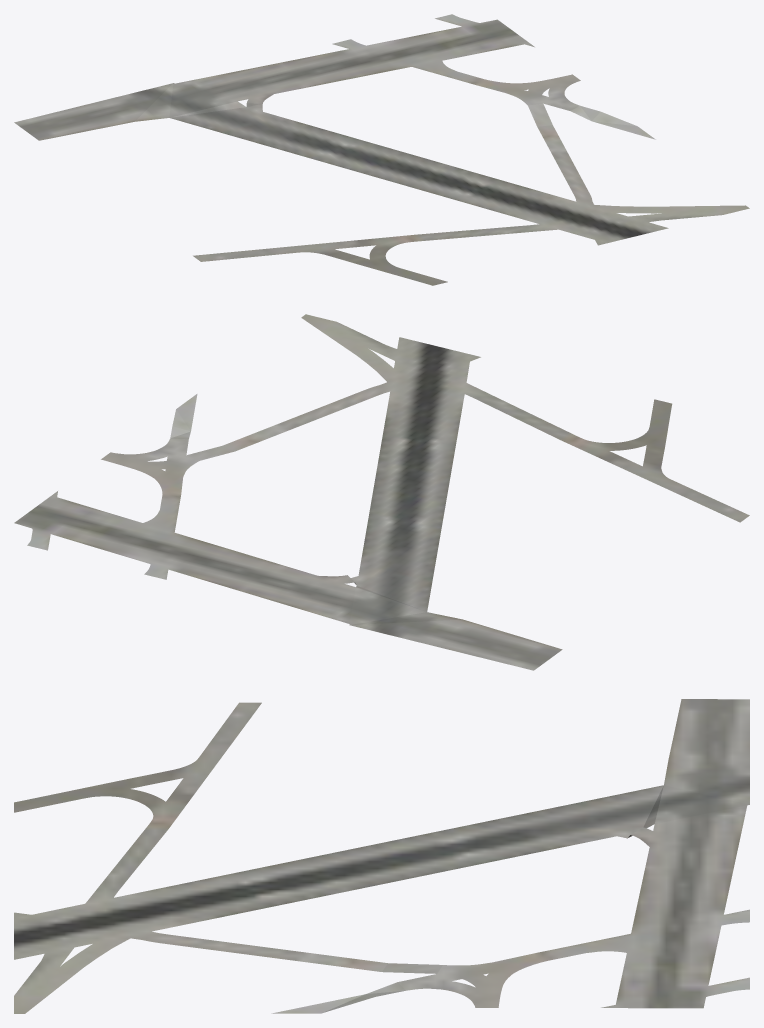
File: LSZH_0_-1.glb
3 renders of one model, top to bottom at view 1: azimuth 30°, elevation 25°; view 2: azimuth 150°, elevation 25°; view 3: azimuth 270°, elevation 25°, orthographic. The views are drawn at different scales.
Visible parts, largest first — view 1: pavement_LSZH_pavement_5367_2513; view 2: pavement_LSZH_pavement_5367_2513; view 3: pavement_LSZH_pavement_5367_2513.
Boxes of the visible parts, left/top/right/bottom form: pavement_LSZH_pavement_5367_2513: left=14, top=14, right=749, bottom=285; pavement_LSZH_pavement_5367_2513: left=14, top=314, right=749, bottom=670; pavement_LSZH_pavement_5367_2513: left=14, top=699, right=749, bottom=1013.
Bounding box in the file's own units: 500 × 4.28 × 500.
1 material, 1 textured.
